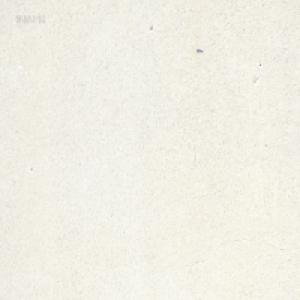Nail: (196, 47, 202, 53)
